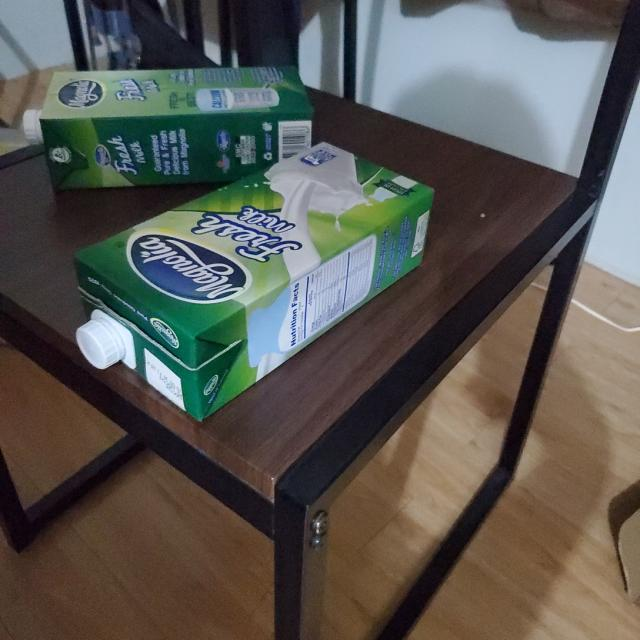milk: (72, 141, 437, 422), (36, 65, 317, 197)
